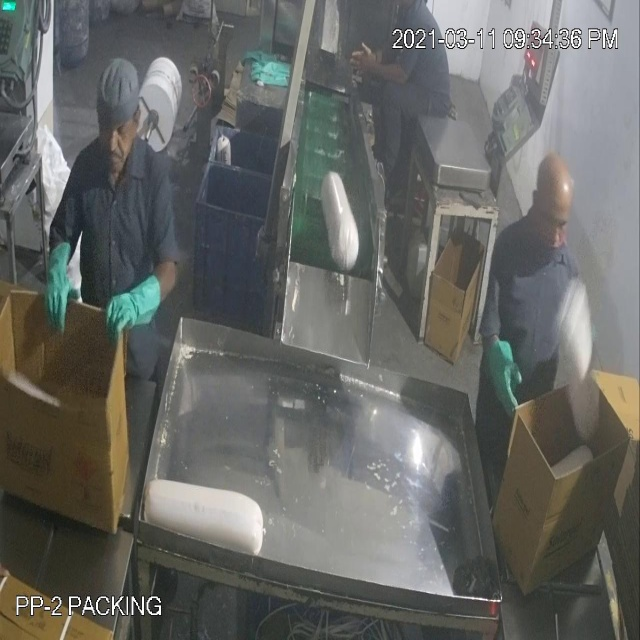Guantes: (102, 265, 169, 359), (39, 236, 82, 335), (491, 326, 522, 418)
Sin_guantes: (355, 41, 410, 105)
